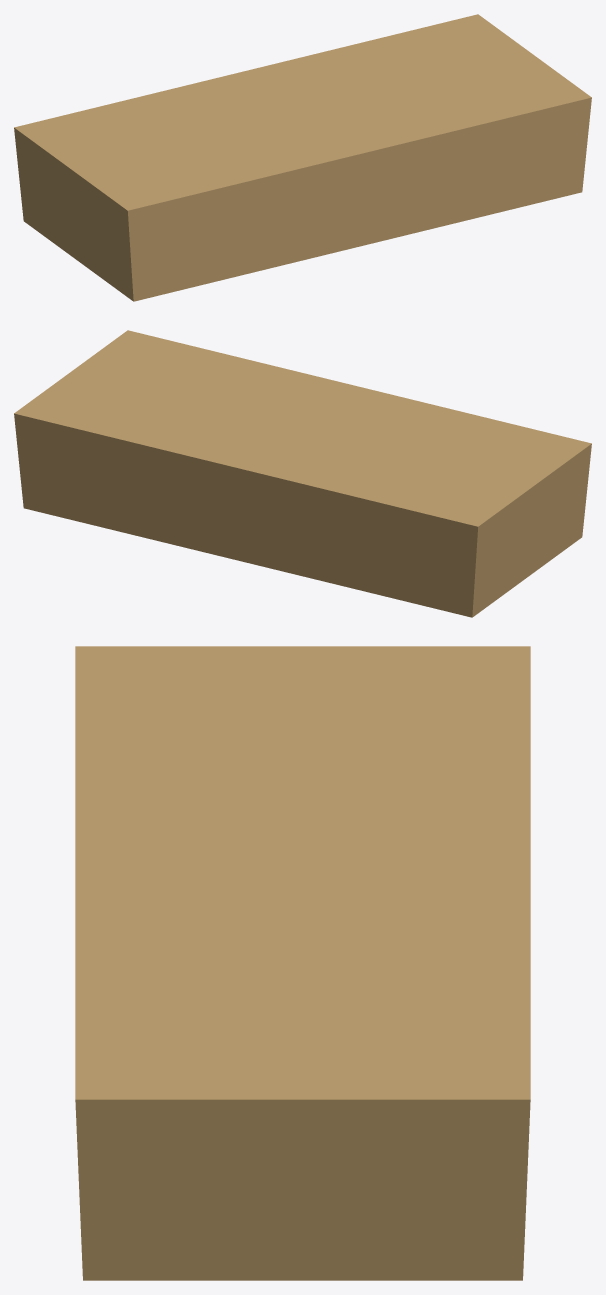
Rendered from sm_CoffeeTable.fbx.
3 views of the same model, one above another, from view 1: azimuth 30°, elevation 25°; view 2: azimuth 150°, elevation 25°; view 3: azimuth 270°, elevation 25° (orthographic). The views are drawn at different scales.
Visible parts, largest first — view 1: sm_CoffeeTable; view 2: sm_CoffeeTable; view 3: sm_CoffeeTable.
Part boxes in pixels (x1=…): sm_CoffeeTable: x1=14, y1=14, x2=591, y2=301; sm_CoffeeTable: x1=14, y1=330, x2=591, y2=617; sm_CoffeeTable: x1=75, y1=646, x2=530, y2=1280.
Size of the model in its own units: 1.64 by 0.318 by 0.6958.
